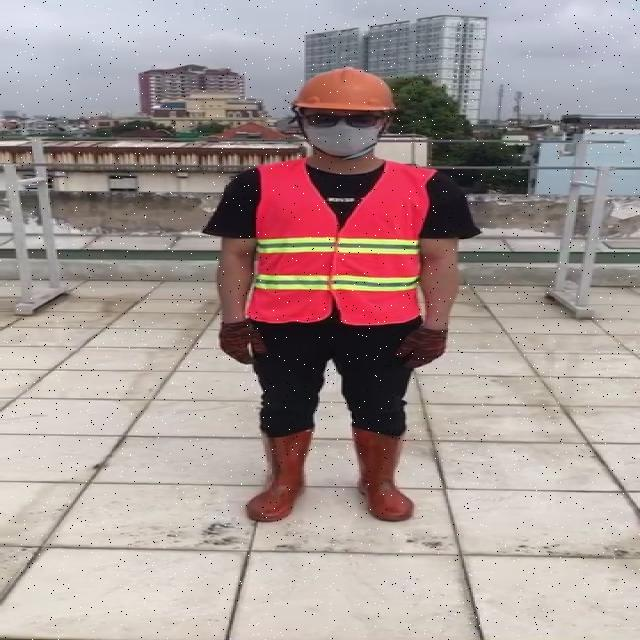Hard_hat: (286, 61, 402, 123)
Vest: (250, 158, 428, 322)
